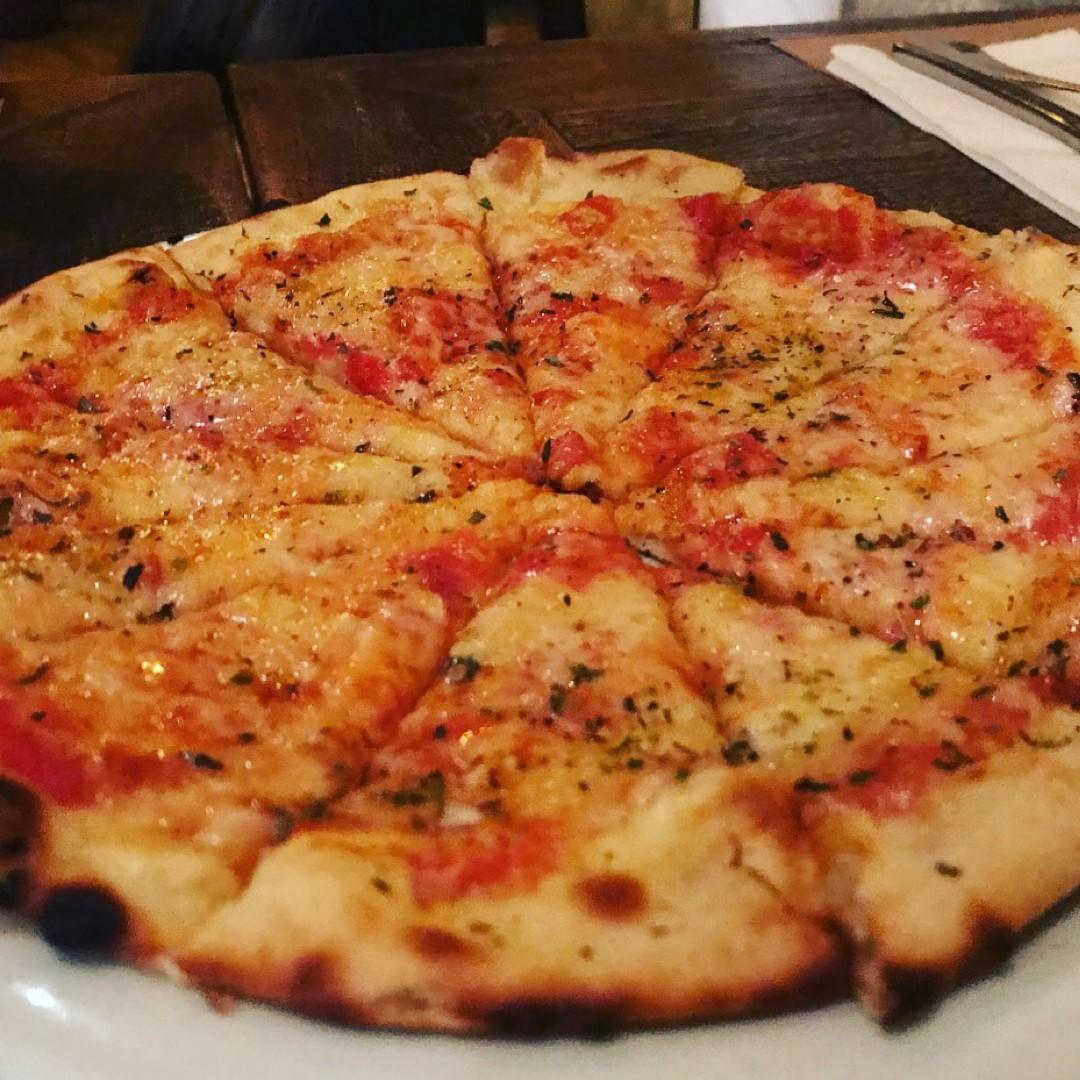Pizza: (0, 163, 1080, 1002)
